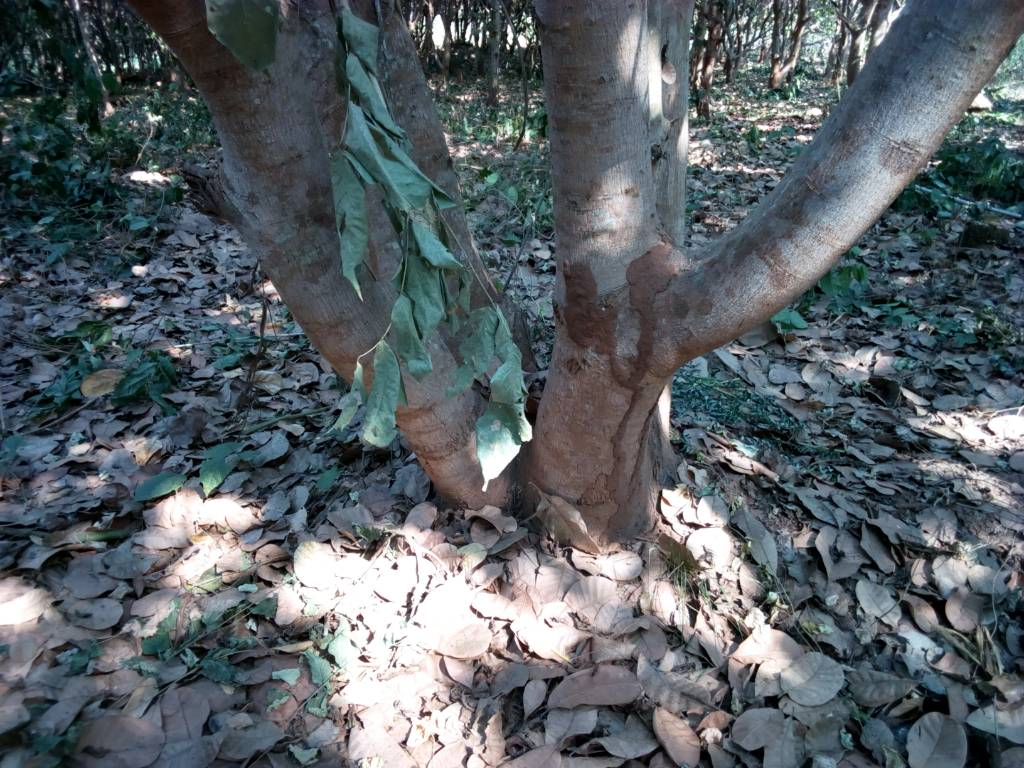Termites: (628, 246, 673, 400), (563, 261, 624, 373), (611, 401, 651, 532)
